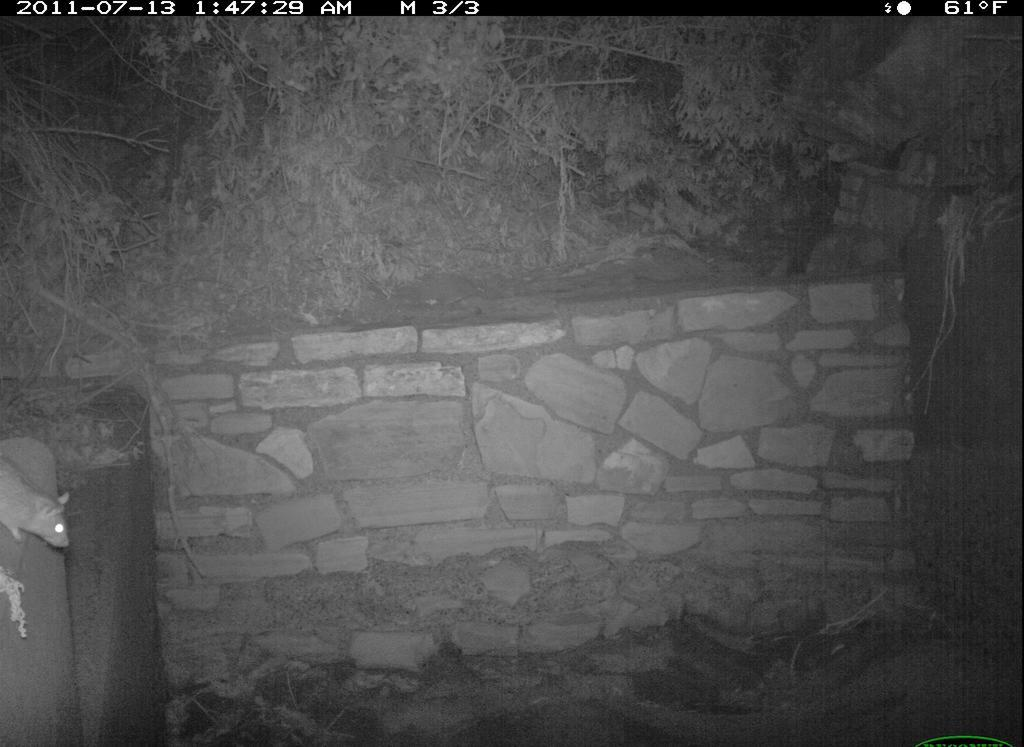rodent: (1, 446, 81, 560)
